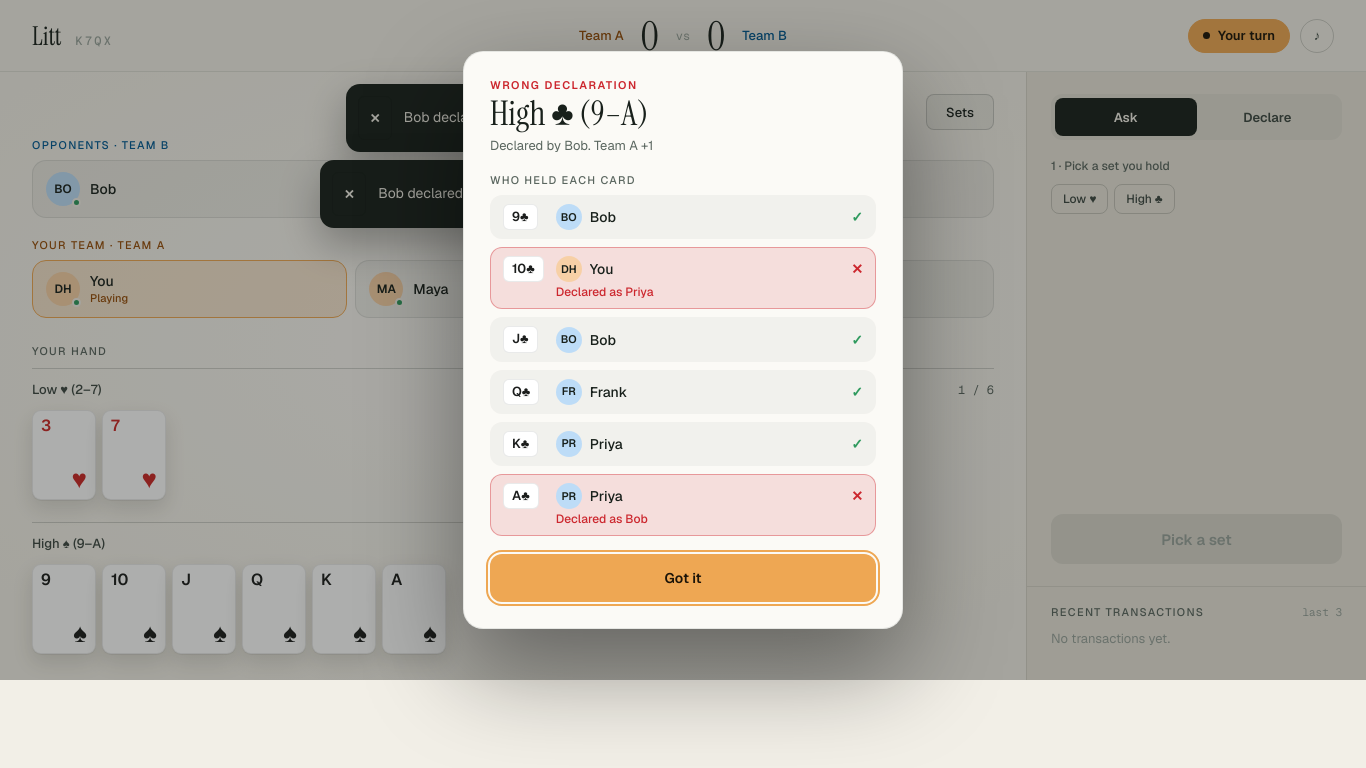
Scenario: RoomPage: wrong declarations › queues a second wrong declaration behind the first, so neither goes unread
Expected: the number of dialogs is 1, [463,51,903,629]
Click the button "Got it".
click(683, 578)  # box [490,554,876,602]
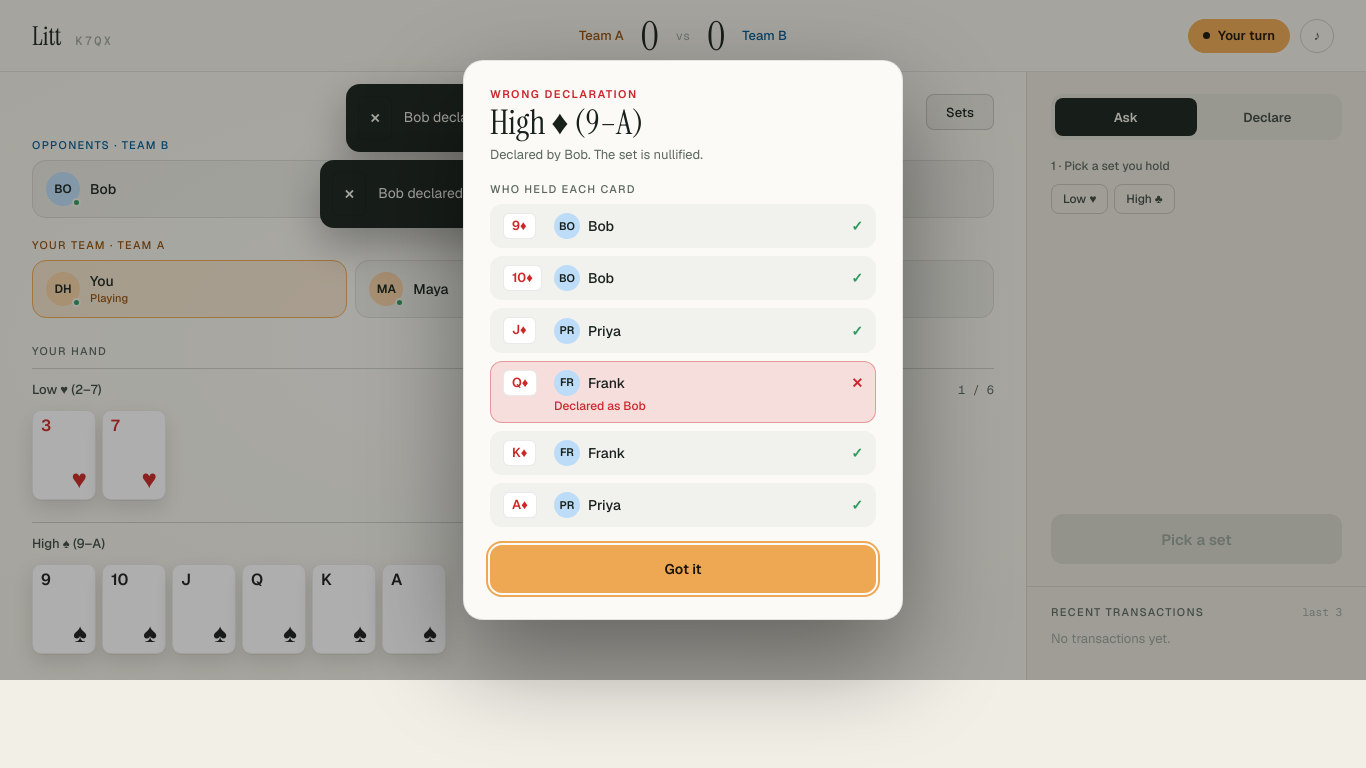
Expected: the text "Declared by Bob. The set is nullified." is shown, [490,146,703,162]
Click the button "Got it".
click(683, 569)  # box [490,545,876,593]
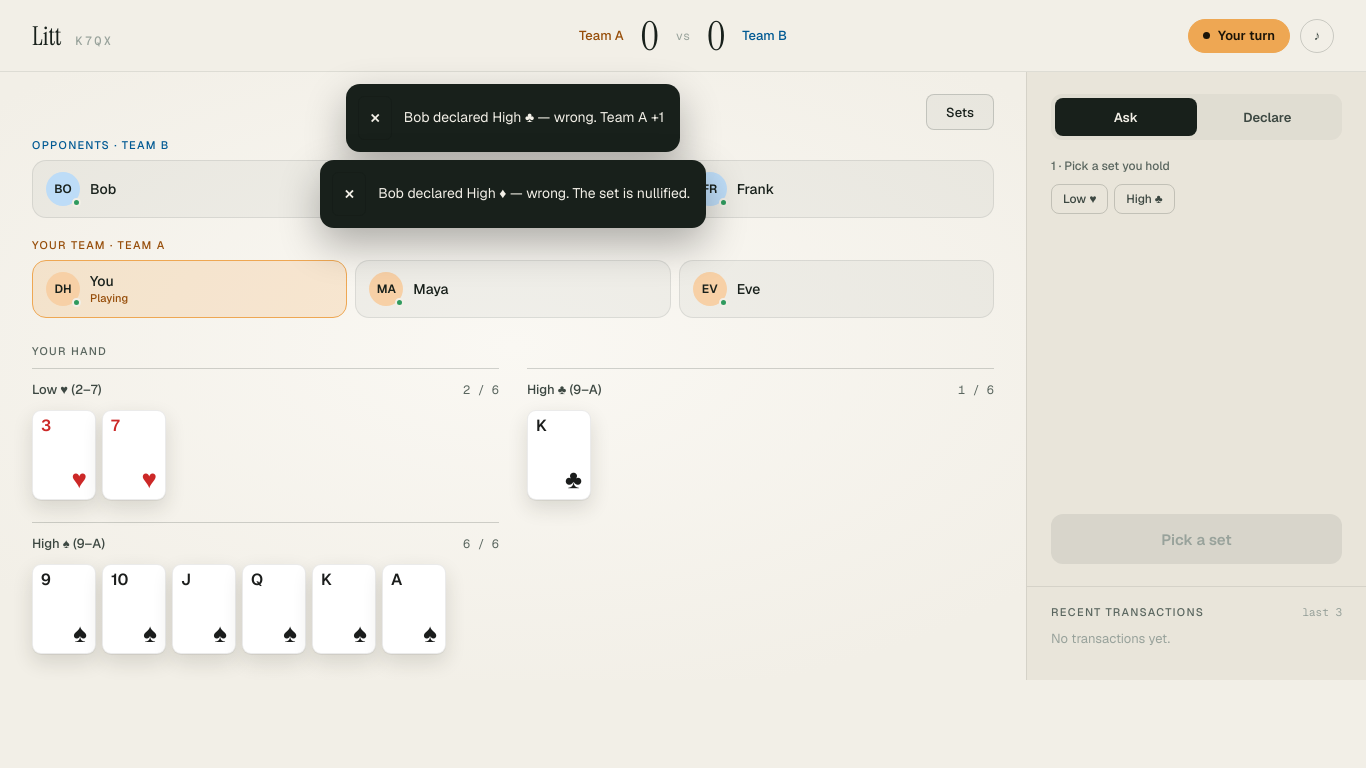
Expected: the dialog is gone
